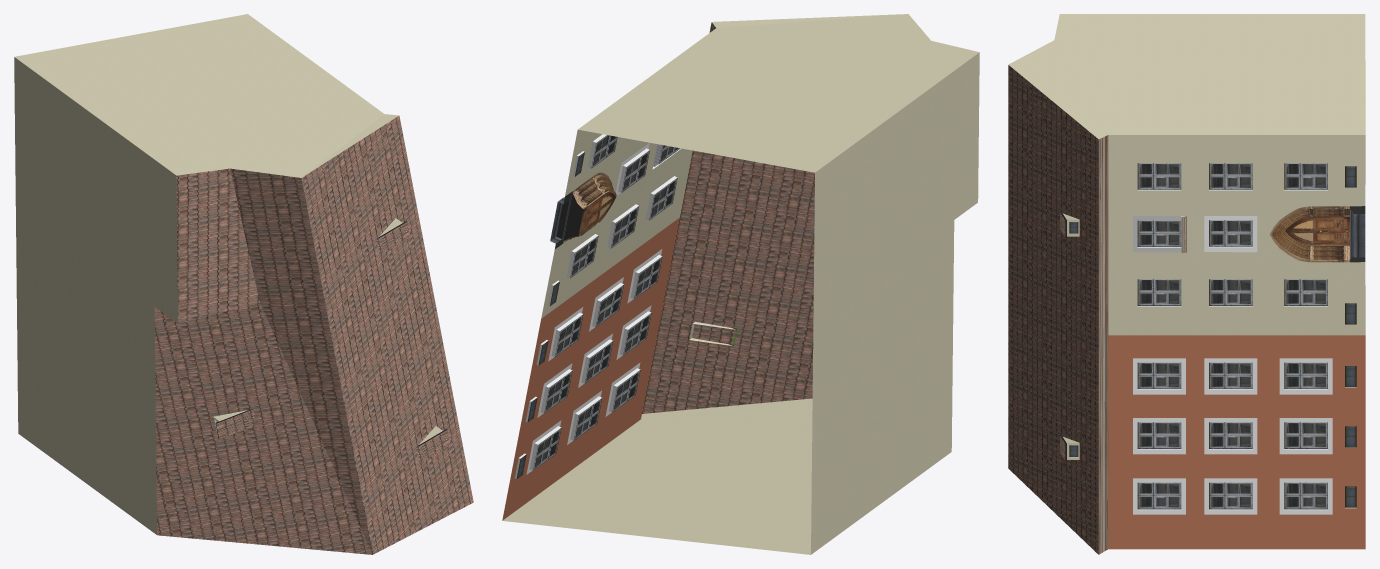
File: Suur-Karia_12.obj
3 views of the same model, side by side, from view 1: azimuth 30°, elevation 25°; view 2: azimuth 150°, elevation 25°; view 3: azimuth 270°, elevation 25° (orthographic). The views are drawn at different scales.
Parts seen in each view (by area): view 1: Suur_Karia_12; view 2: Suur_Karia_12; view 3: Suur_Karia_12.
Boxes of the visible parts, x1,y1,x2,y2 form: Suur_Karia_12: (14, 14, 473, 554); Suur_Karia_12: (502, 14, 979, 554); Suur_Karia_12: (1008, 14, 1365, 554).
Bounding box in the file's own units: 16.58 × 20.91 × 17.15.
